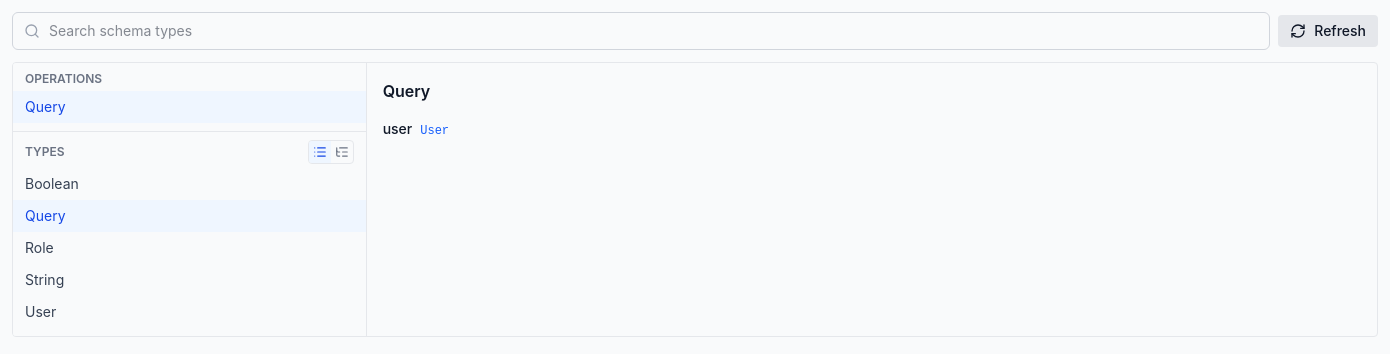
it: GraphQLSchemaExplorer › browses root operations and schema types
Expected: the button "Query" below "Operations" is shown, [13, 91, 366, 123]
Expected: the text "user" is shown, [383, 119, 412, 139]
Type "User" into the search field labelled "Search schema types" at [641, 31], box [12, 12, 1270, 50]
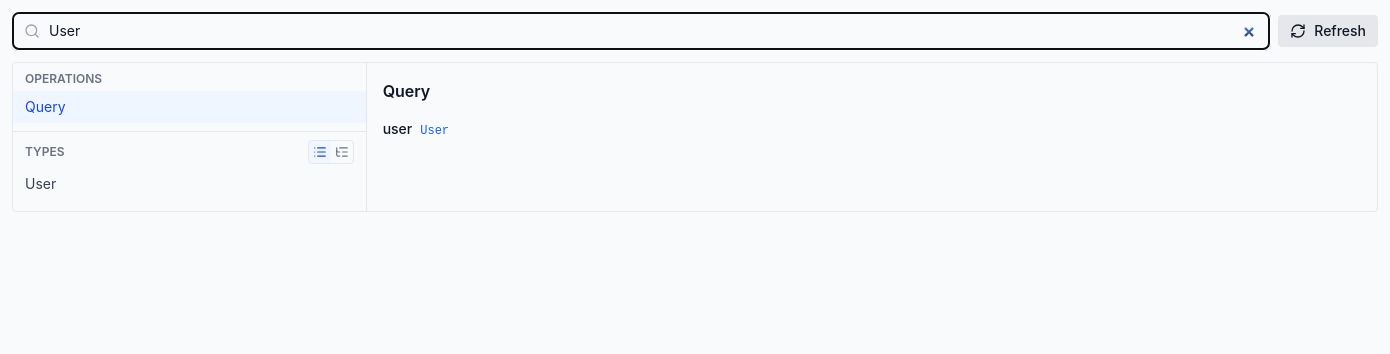
Click the button "User" below "Types" at [41, 184], box [13, 168, 366, 200]
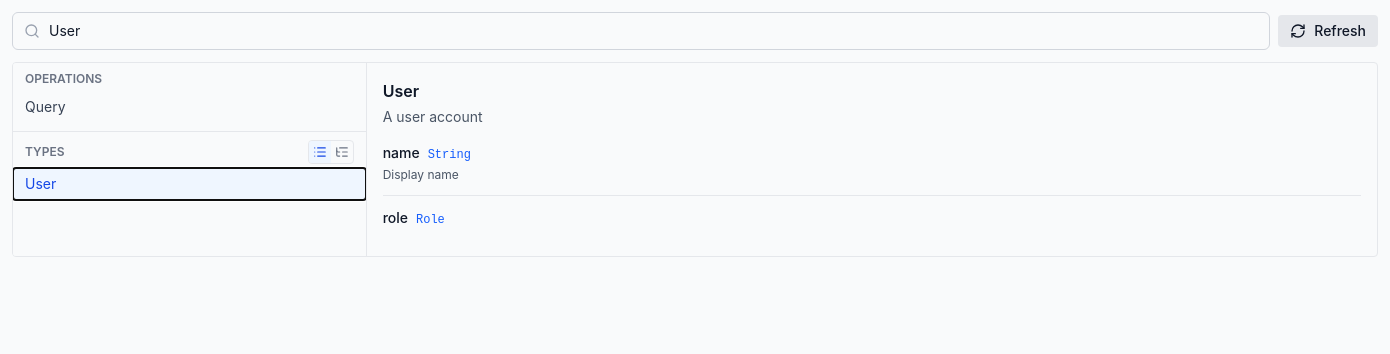
Expected: the text "A user account" is shown, [383, 108, 483, 125]
Expected: the text "Display name" is shown, [383, 167, 459, 182]
Expected: the button "String" is shown, [428, 147, 471, 163]
